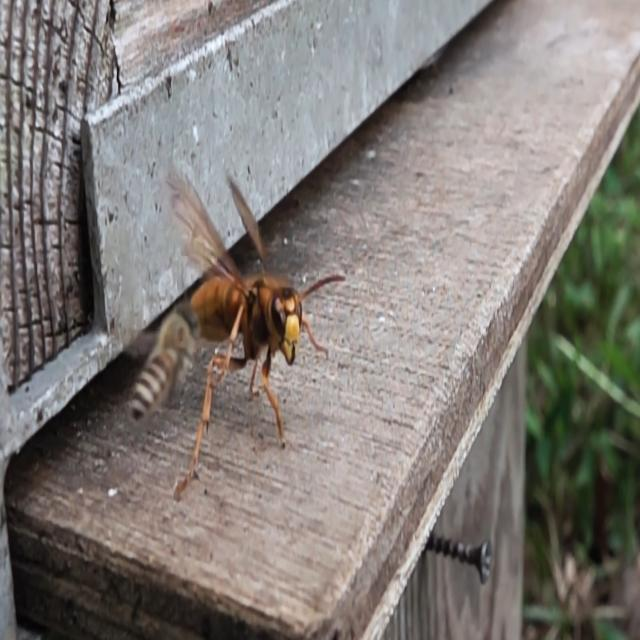Bees: (117, 305, 203, 420)
Hornets: (167, 158, 346, 501)
